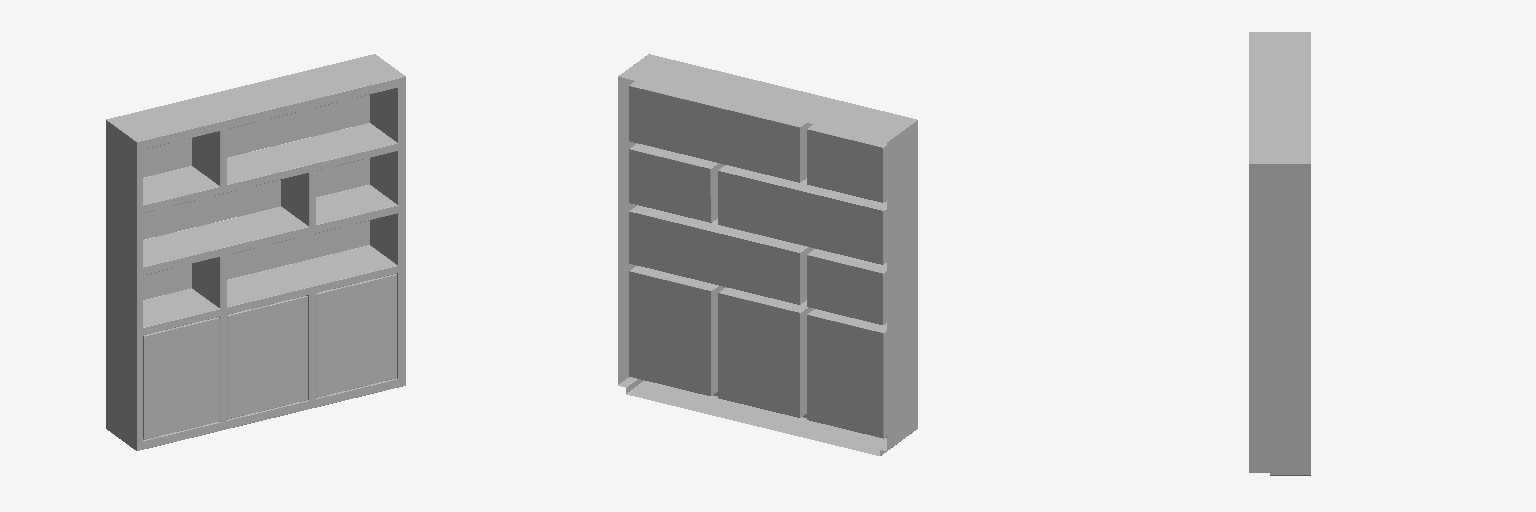
File: closet_01.obj
3 views of the same model, side by side, from view 1: azimuth 30°, elevation 25°; view 2: azimuth 150°, elevation 25°; view 3: azimuth 270°, elevation 25° (orthographic).
Parts seen in each view (by area): view 1: closet_Plane.000; view 2: closet_Plane.000; view 3: closet_Plane.000.
Part boxes in pixels (x1,y1,x2,y2): closet_Plane.000: (106, 54, 405, 450); closet_Plane.000: (618, 54, 917, 455); closet_Plane.000: (1249, 32, 1310, 475).
Size of the model in its own units: 3.26 by 3.65 by 0.6481.